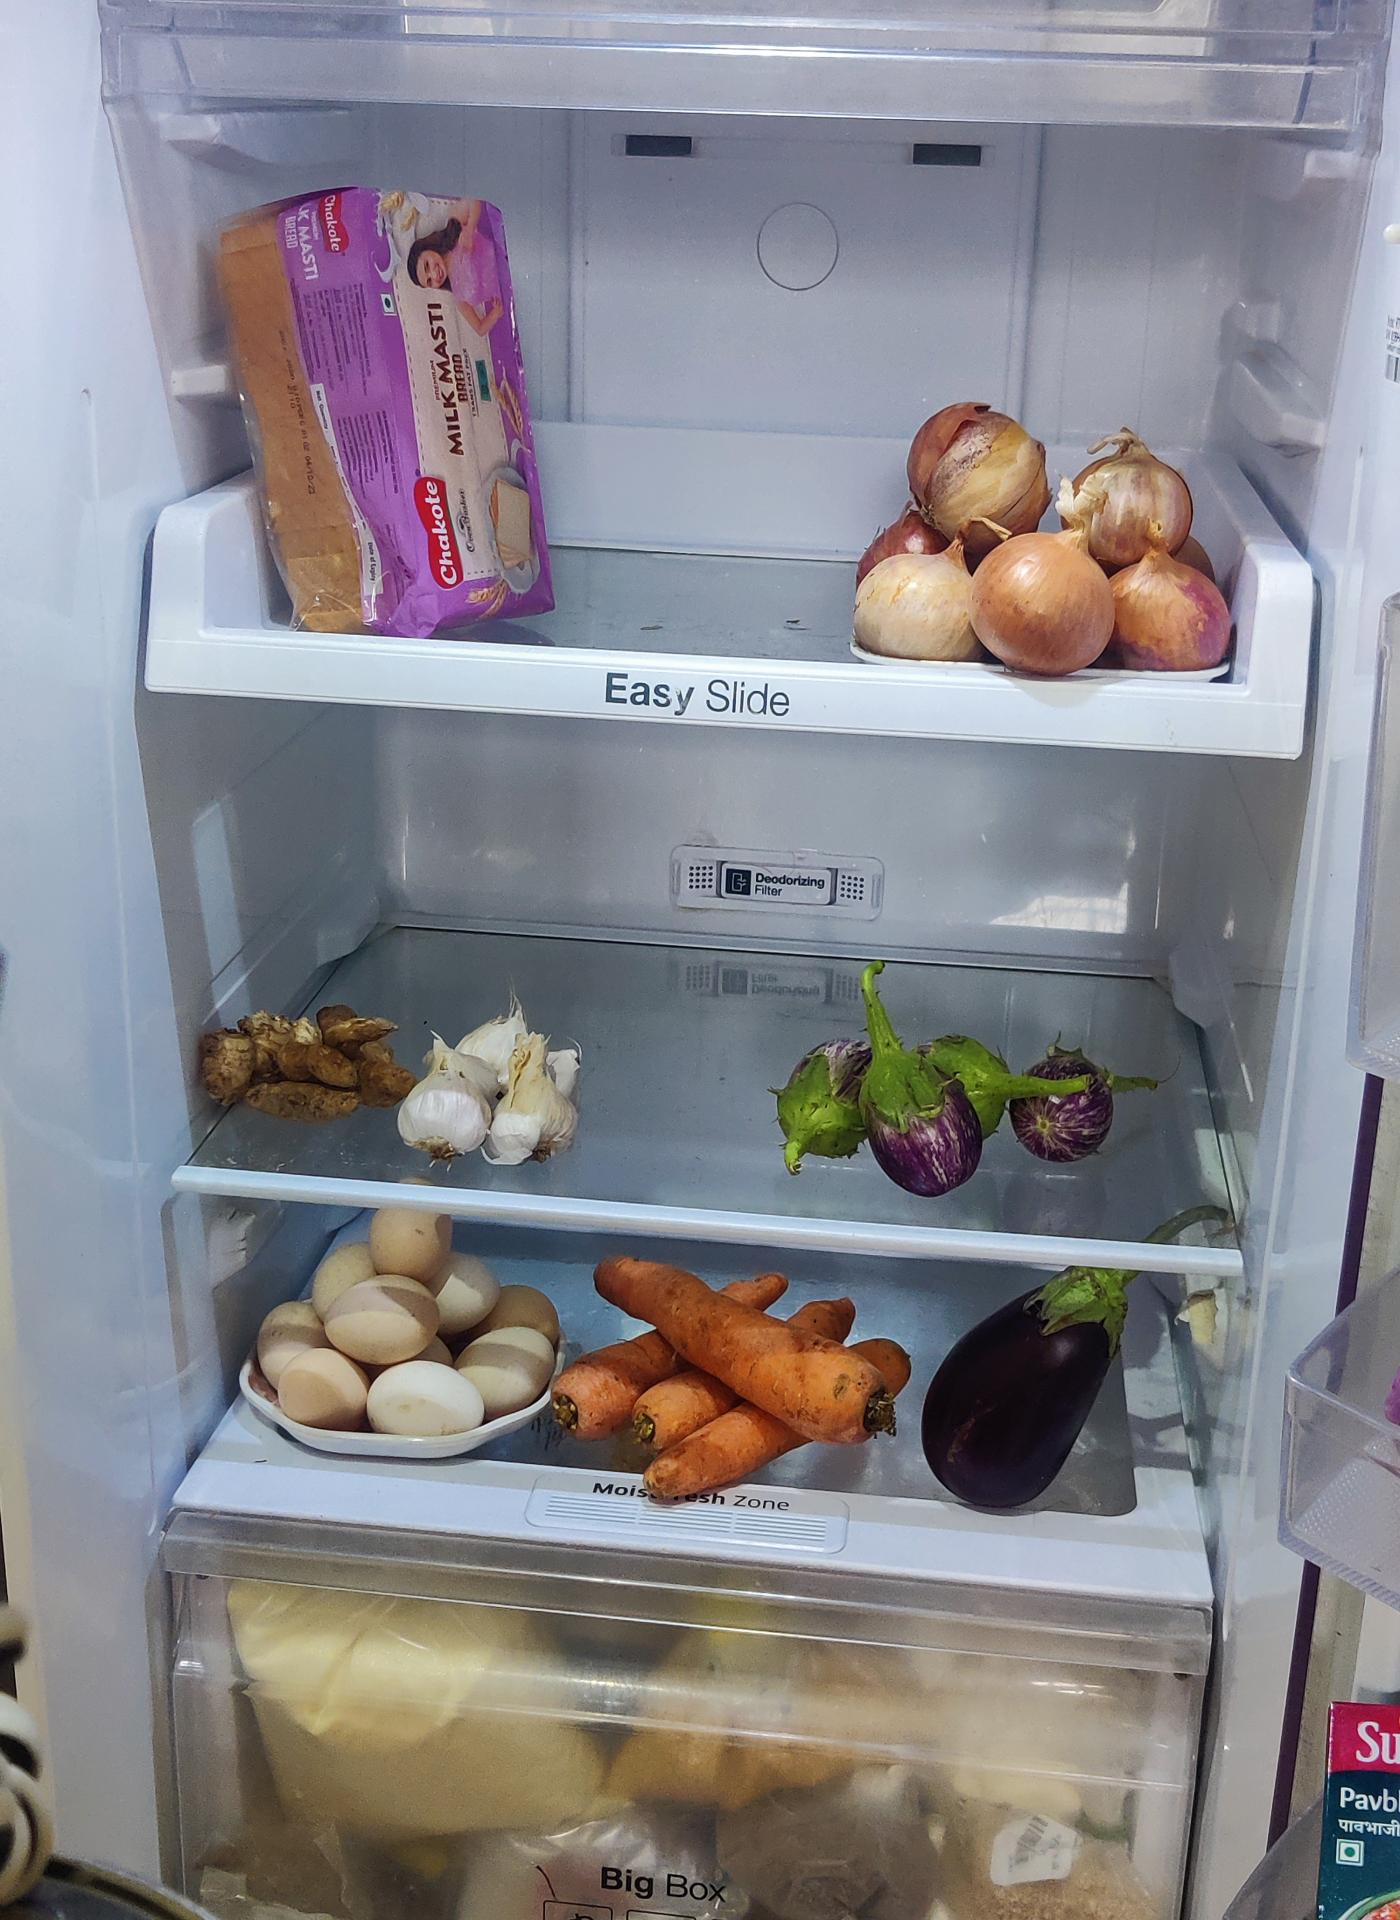bread: (209, 180, 570, 642)
brinjal: (795, 1008, 1102, 1190), (933, 1267, 1126, 1525)
carrots: (568, 1249, 923, 1498)
egg: (240, 1197, 553, 1433)
garlic: (398, 1015, 578, 1169)
ginger: (192, 1000, 413, 1125)
onion: (845, 407, 1237, 683)
